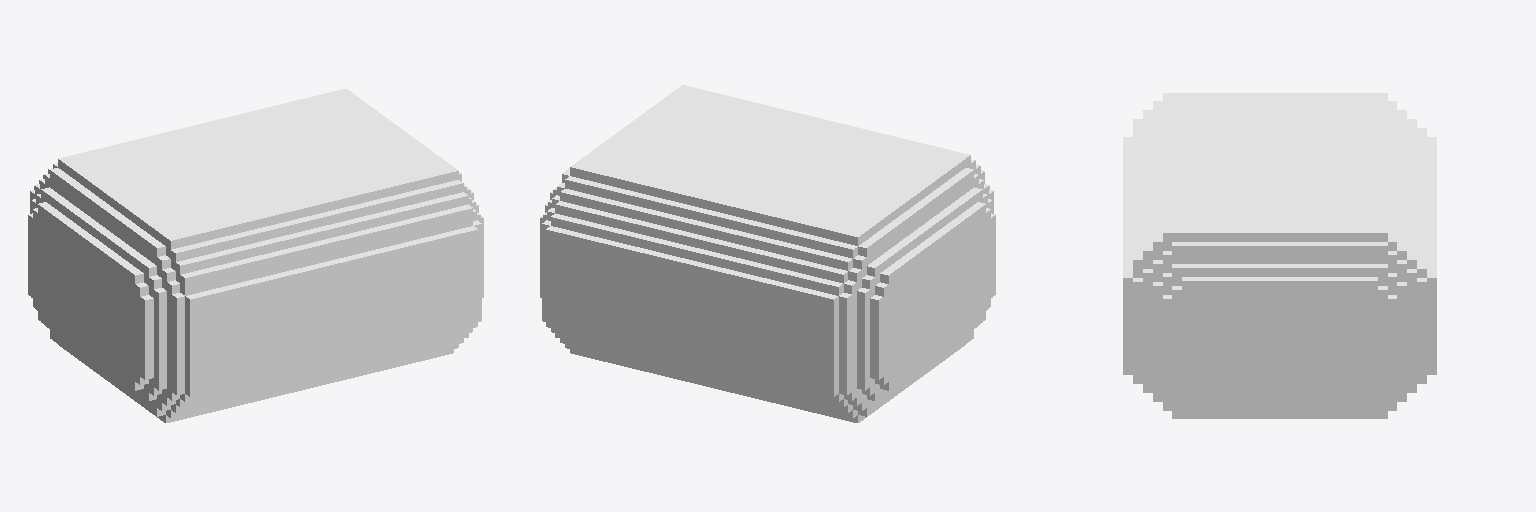
Rendered from ring_structure.obj.
The picture shows the model from 3 angles: view 1: azimuth 30°, elevation 25°; view 2: azimuth 150°, elevation 25°; view 3: azimuth 270°, elevation 25°; orthographic projection.
Parts seen in each view (by area): view 1: object 1; view 2: object 1; view 3: object 1.
Boxes of the visible parts, <box> form: object 1: <box>28,89,483,422</box>; object 1: <box>540,85,995,422</box>; object 1: <box>1123,93,1436,418</box>.
Bounding box in the file's own units: 4 × 2.1 × 3.2.